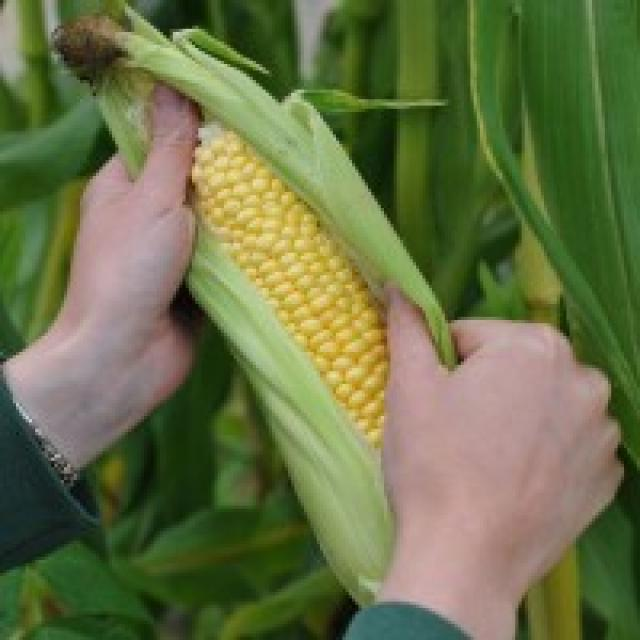corn: (187, 108, 397, 461)
